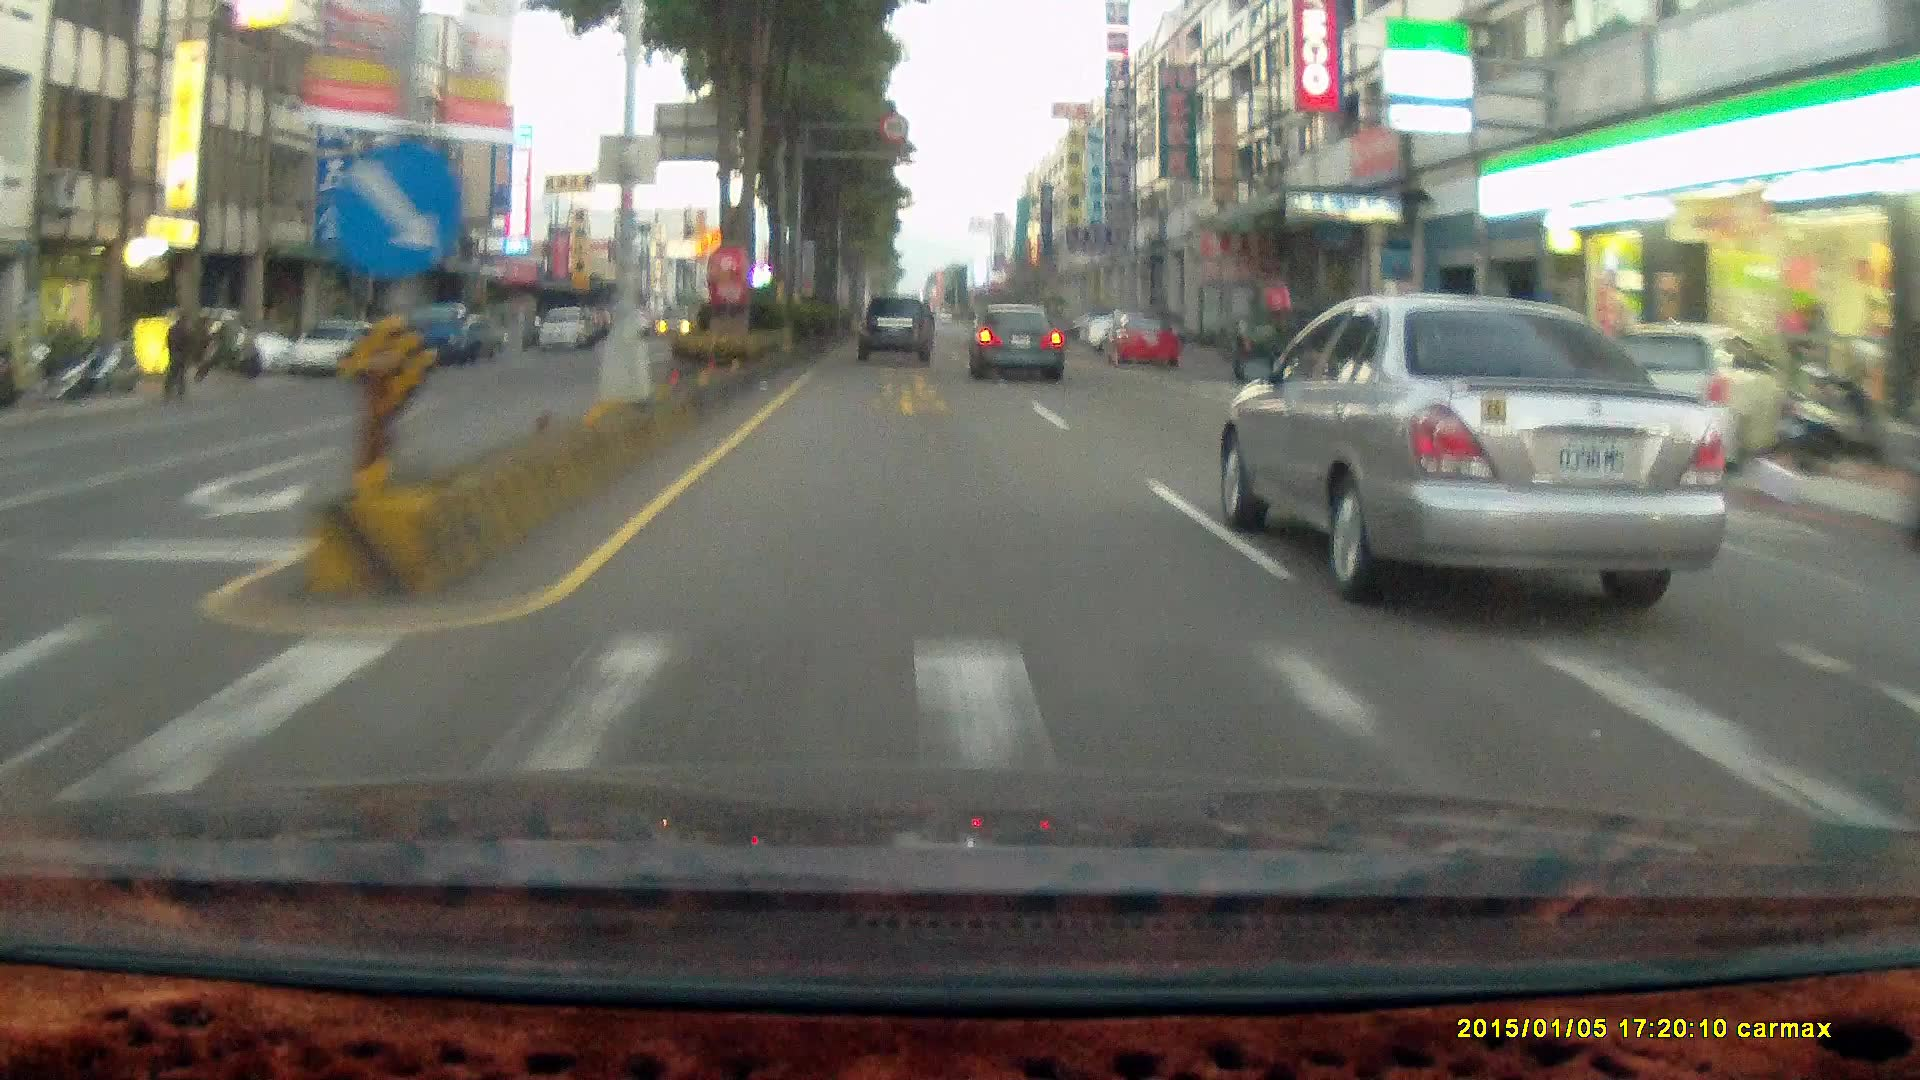pedestrian: (161, 313, 193, 402), (165, 310, 197, 398)
vehicle: (1227, 286, 1732, 586), (1593, 319, 1786, 473), (1387, 316, 1567, 436), (1229, 300, 1388, 378), (1248, 308, 1408, 385), (158, 306, 287, 374), (969, 302, 1067, 383), (966, 307, 1064, 381), (284, 317, 390, 379), (408, 294, 505, 361), (856, 297, 939, 369), (284, 320, 386, 374), (404, 304, 486, 369), (857, 294, 934, 364), (1101, 303, 1185, 365), (1100, 310, 1175, 364), (429, 318, 508, 361), (539, 307, 593, 353)
